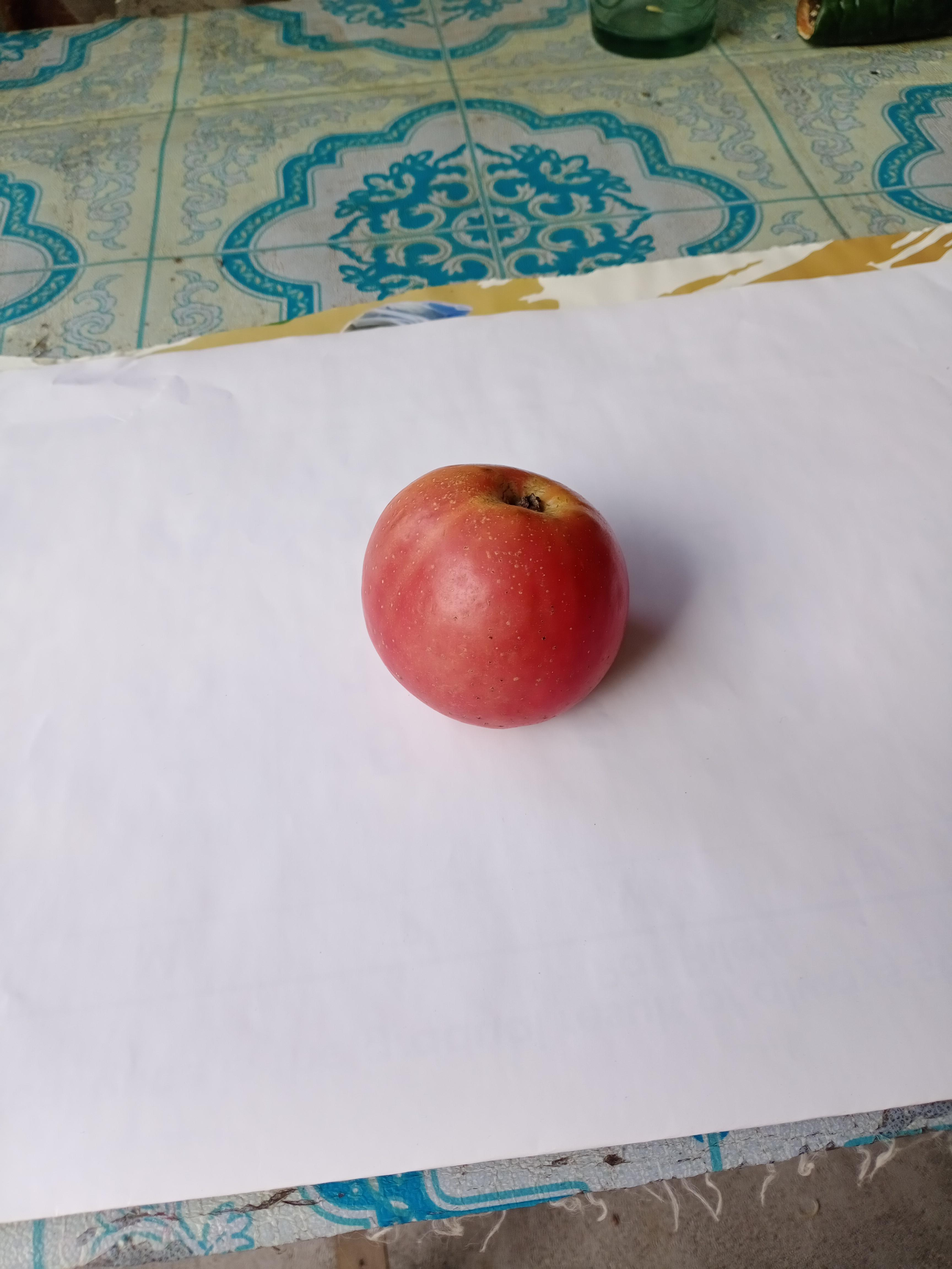Apple Ripe: (345, 449, 658, 741)
